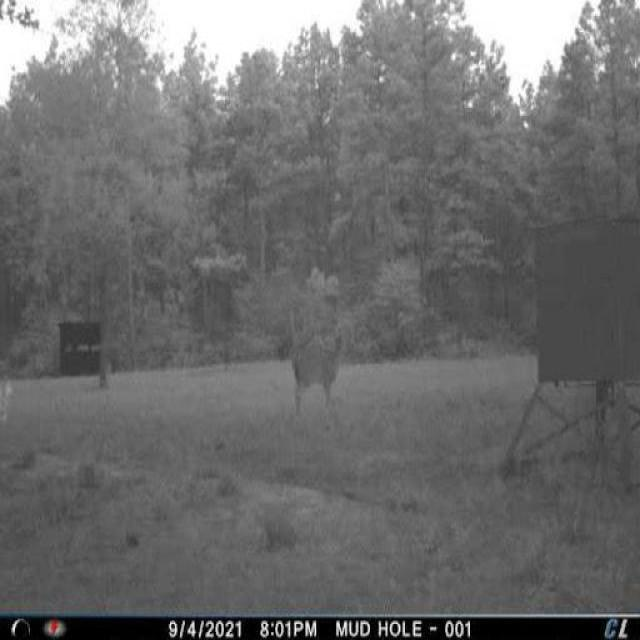deer: (287, 327, 355, 421)
